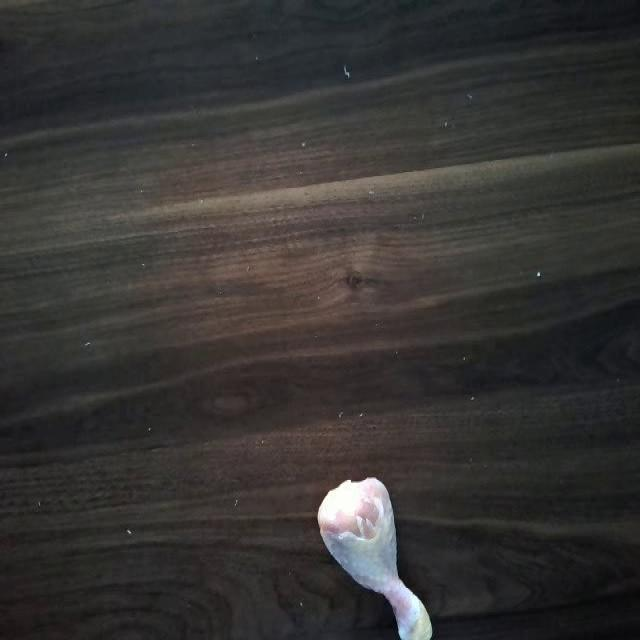leg: (313, 471, 436, 640)
